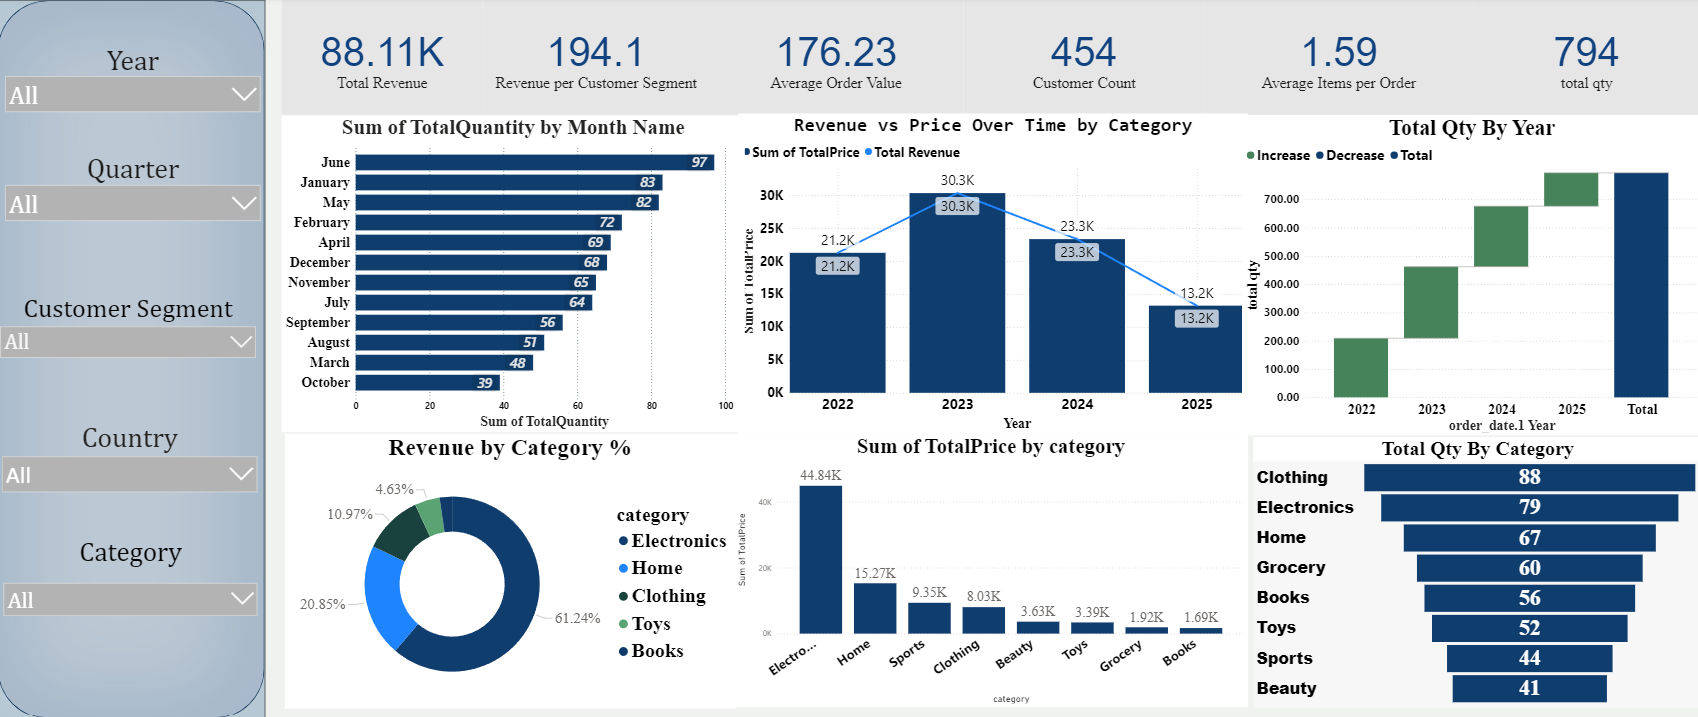

The dashboard page shown, as its layout file describes it:
{"tool":"powerbi","page":{"name":"Page 2","canvas":[9999,9999],"ordinal":1},"visuals":[{"type":"card","fields":{"Values":["Table2.Total Revenue"]},"box":[442.5,-2.5,309.8,180],"z":0,"group":"g2"},{"type":"group","id":"g1","title":"Group 1","box":[1.2,0,416.2,1107.5],"z":0},{"type":"group","id":"g2","title":"Group 2","box":[442.5,-2.5,2182.5,180],"z":1000},{"type":"card","fields":{"Values":["Table2.total qty"]},"box":[2274.4,-2.5,350.6,180],"z":1000,"group":"g2"},{"type":"card","fields":{"Values":["Table2.Customer Count"]},"box":[1491.6,-2.5,369.6,180],"z":2000,"group":"g2"},{"type":"group","id":"g3","title":"Group 3","box":[442.5,175,2182.5,912.5],"z":2000},{"type":"card","fields":{"Values":["Table2.Average Order Value"]},"box":[1100.2,-2.5,391.4,180],"z":3000,"group":"g2"},{"type":"slicer","title":"Customer Segment","fields":{"Values":["Table2.customer_segment"]},"box":[0,452.5,412.5,135],"z":3001},{"type":"card","fields":{"Values":["Table2.Revenue per Customer Segment"]},"box":[752.3,-2.5,347.9,180],"z":4000,"group":"g2"},{"type":"card","fields":{"Values":["Table2.Average Items per Order"]},"box":[1861.3,-2.5,413.1,180],"z":5000,"group":"g2"},{"type":"donutChart","title":"Revenue by Category %","fields":{"Category":["Table2.category"],"Y":["Table2.Revenue_Percentage"]},"box":[446.5,666.9,693.8,422.5],"z":6000,"group":"g3"},{"type":"lineClusteredColumnComboChart","title":"Revenue vs Price Over Time by Category","fields":{"Category":["Table2.order_date.1.Variation.Date Hierarchy.Year"],"Y":["Sum(Table2.TotalPrice)"],"Y2":["Table2.Total Revenue"]},"box":[1145.6,175,784.2,492.5],"z":7000,"group":"g3"},{"type":"funnel","title":"Total Qty By Category","fields":{"Category":["Table2.category"],"Y":["Table2.total qty"]},"box":[1932.5,666.9,680.5,412.5],"z":8000,"group":"g3"},{"type":"waterfallChart","title":"Total Qty By Year","fields":{"Category":["Table2.order_date.1.Variation.Date Hierarchy.Year","Table2.order_date.1.Variation.Date Hierarchy.Quarter","Table2.order_date.1.Variation.Date Hierarchy.Month","Table2.order_date.1.Variation.Date Hierarchy.Day"],"Y":["Table2.total qty"]},"box":[1919.2,176.9,707.1,492.5],"z":9000,"group":"g3"},{"type":"columnChart","fields":{"Category":["Table2.category"],"Y":["Sum(Table2.TotalPrice)"]},"box":[1137.7,666.9,792.2,420],"z":10000,"group":"g3"},{"type":"barChart","fields":{"Category":["Table2.Month Name"],"Y":["Sum(Table2.TotaQuantity)"]},"box":[442.5,176.9,712.4,487.5],"z":14000,"group":"g3"},{"type":"shape","box":[2.4,0,412.5,1107.5],"z":15125,"group":"g1"},{"type":"slicer","title":"Year","fields":{"Values":["Table2.Year"]},"box":[5,70,412.5,167.5],"z":15250,"group":"g1"},{"type":"slicer","title":"Quarter","fields":{"Values":["Table2.Quarter"]},"box":[7.5,237.5,412.5,167.5],"z":15250},{"type":"slicer","title":"Category","fields":{"Values":["Table2.category"]},"box":[3.1,827.5,410,215],"z":15500,"group":"g1"},{"type":"slicer","title":"Country","fields":{"Values":["Table2.country"]},"box":[1.2,650,412.5,177.5],"z":17000,"group":"g1"}]}

Visuals, with their boxes on the page's 9999x9999 design canvas (x1, y1, x2, y2). These are canvas units, not pixel positions in the 1698x717 screenshot, which may show the page scaled, cropped or inside an application window:
card - Table2.Total Revenue: locate(442, -2, 752, 178)
"Group 1" group: locate(1, 0, 417, 1108)
"Group 2" group: locate(442, -2, 2625, 178)
card - Table2.total qty: locate(2274, -2, 2625, 178)
card - Table2.Customer Count: locate(1492, -2, 1861, 178)
"Group 3" group: locate(442, 175, 2625, 1088)
card - Table2.Average Order Value: locate(1100, -2, 1492, 178)
"Customer Segment" slicer: locate(0, 452, 412, 588)
card - Table2.Revenue per Customer Segment: locate(752, -2, 1100, 178)
card - Table2.Average Items per Order: locate(1861, -2, 2274, 178)
"Revenue by Category %" donutChart: locate(446, 667, 1140, 1089)
"Revenue vs Price Over Time by Category" lineClusteredColumnComboChart: locate(1146, 175, 1930, 668)
"Total Qty By Category" funnel: locate(1932, 667, 2613, 1079)
"Total Qty By Year" waterfallChart: locate(1919, 177, 2626, 669)
columnChart - Table2.category x Sum(Table2.TotalPrice): locate(1138, 667, 1930, 1087)
barChart - Table2.Month Name x Sum(Table2.TotaQuantity): locate(442, 177, 1155, 664)
shape: locate(2, 0, 415, 1108)
"Year" slicer: locate(5, 70, 418, 238)
"Quarter" slicer: locate(8, 238, 420, 405)
"Category" slicer: locate(3, 828, 413, 1042)
"Country" slicer: locate(1, 650, 414, 828)
